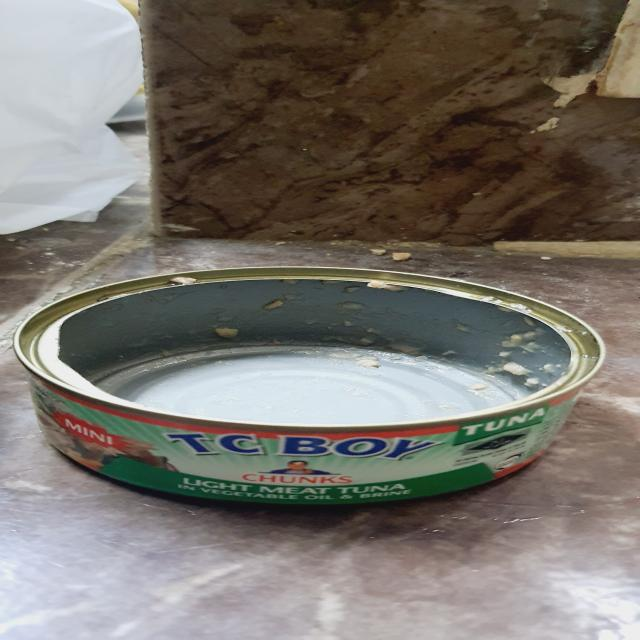Metal: (13, 265, 607, 506)
